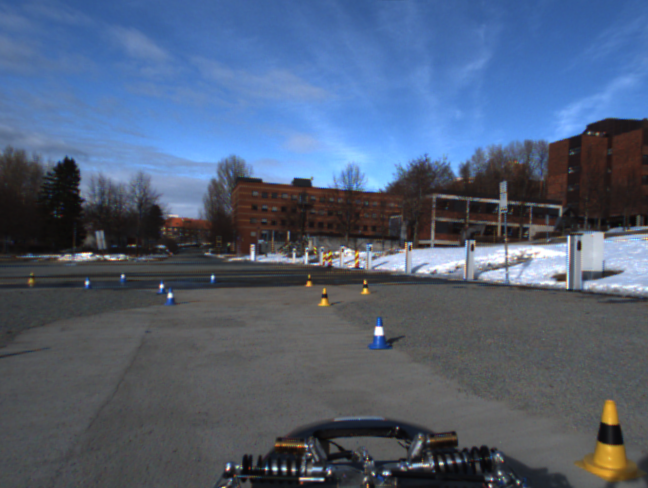cone-small-blue: (368, 316, 392, 351), (163, 288, 176, 306), (156, 280, 167, 295), (83, 276, 92, 289), (209, 272, 217, 285), (119, 272, 127, 284)
cone-small-yellow: (575, 399, 646, 483), (317, 287, 331, 307), (360, 279, 370, 295), (27, 270, 36, 285), (305, 274, 314, 287)
